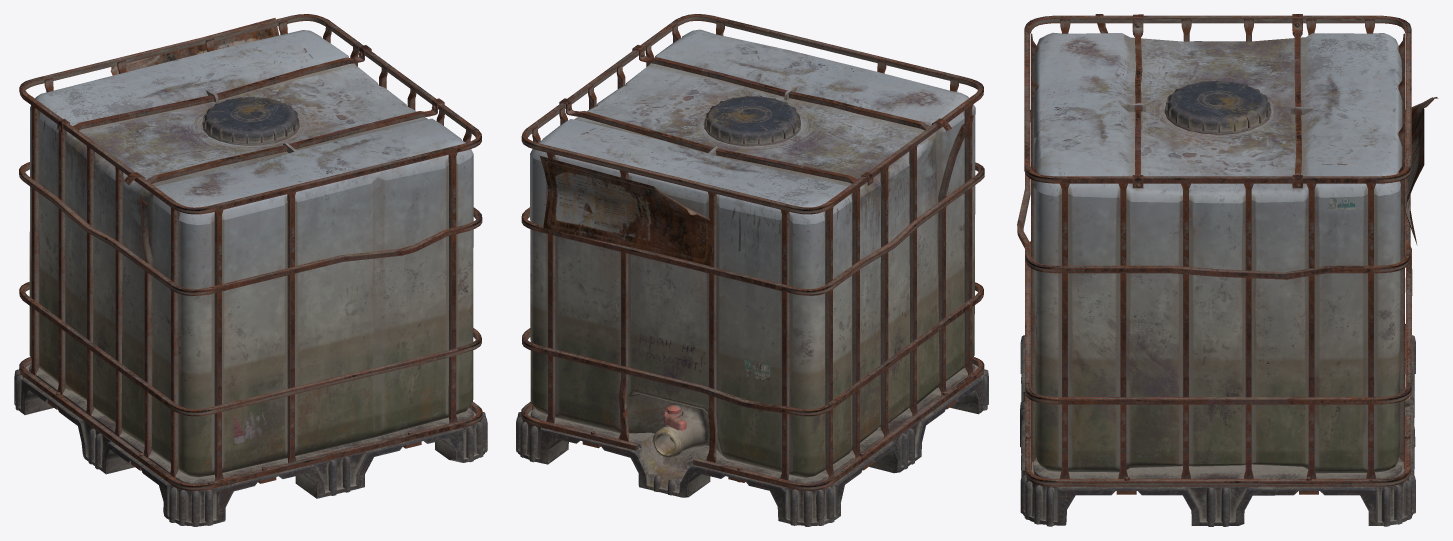
Rendered from BonNuoc.fbx.
3 views of the same model, side by side, from view 1: azimuth 30°, elevation 25°; view 2: azimuth 150°, elevation 25°; view 3: azimuth 270°, elevation 25° (orthographic). The views are drawn at different scales.
Parts seen in each view (by area): view 1: mesh_1; view 2: mesh_1; view 3: mesh_1.
Part boxes in pixels (bbox=[...]): mesh_1: bbox=[14, 14, 487, 526]; mesh_1: bbox=[516, 14, 988, 526]; mesh_1: bbox=[1017, 14, 1438, 526].
Size of what is drawn, in the model's own units: 153 by 143 by 157.
